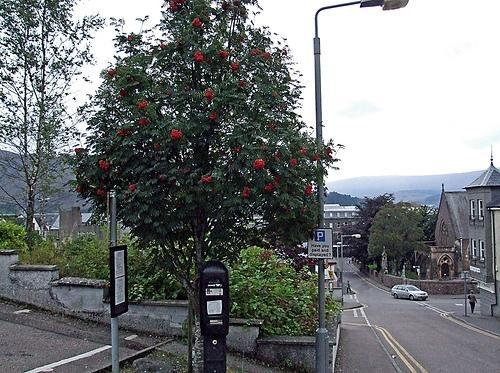car: (390, 284, 428, 300)
